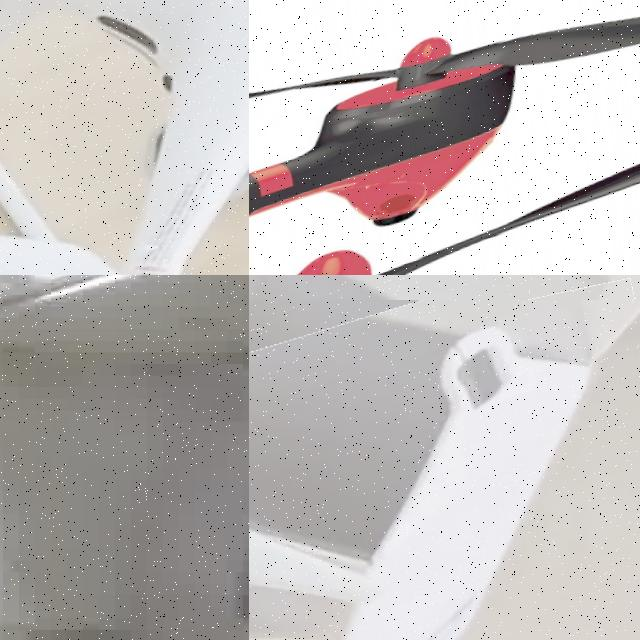drone: (249, 300, 640, 640), (249, 0, 640, 275), (0, 0, 249, 275)
